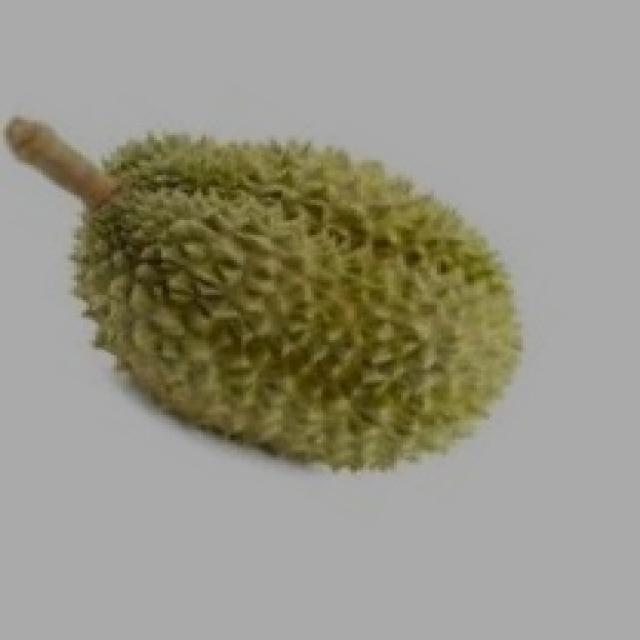fruit: (28, 108, 388, 522)
